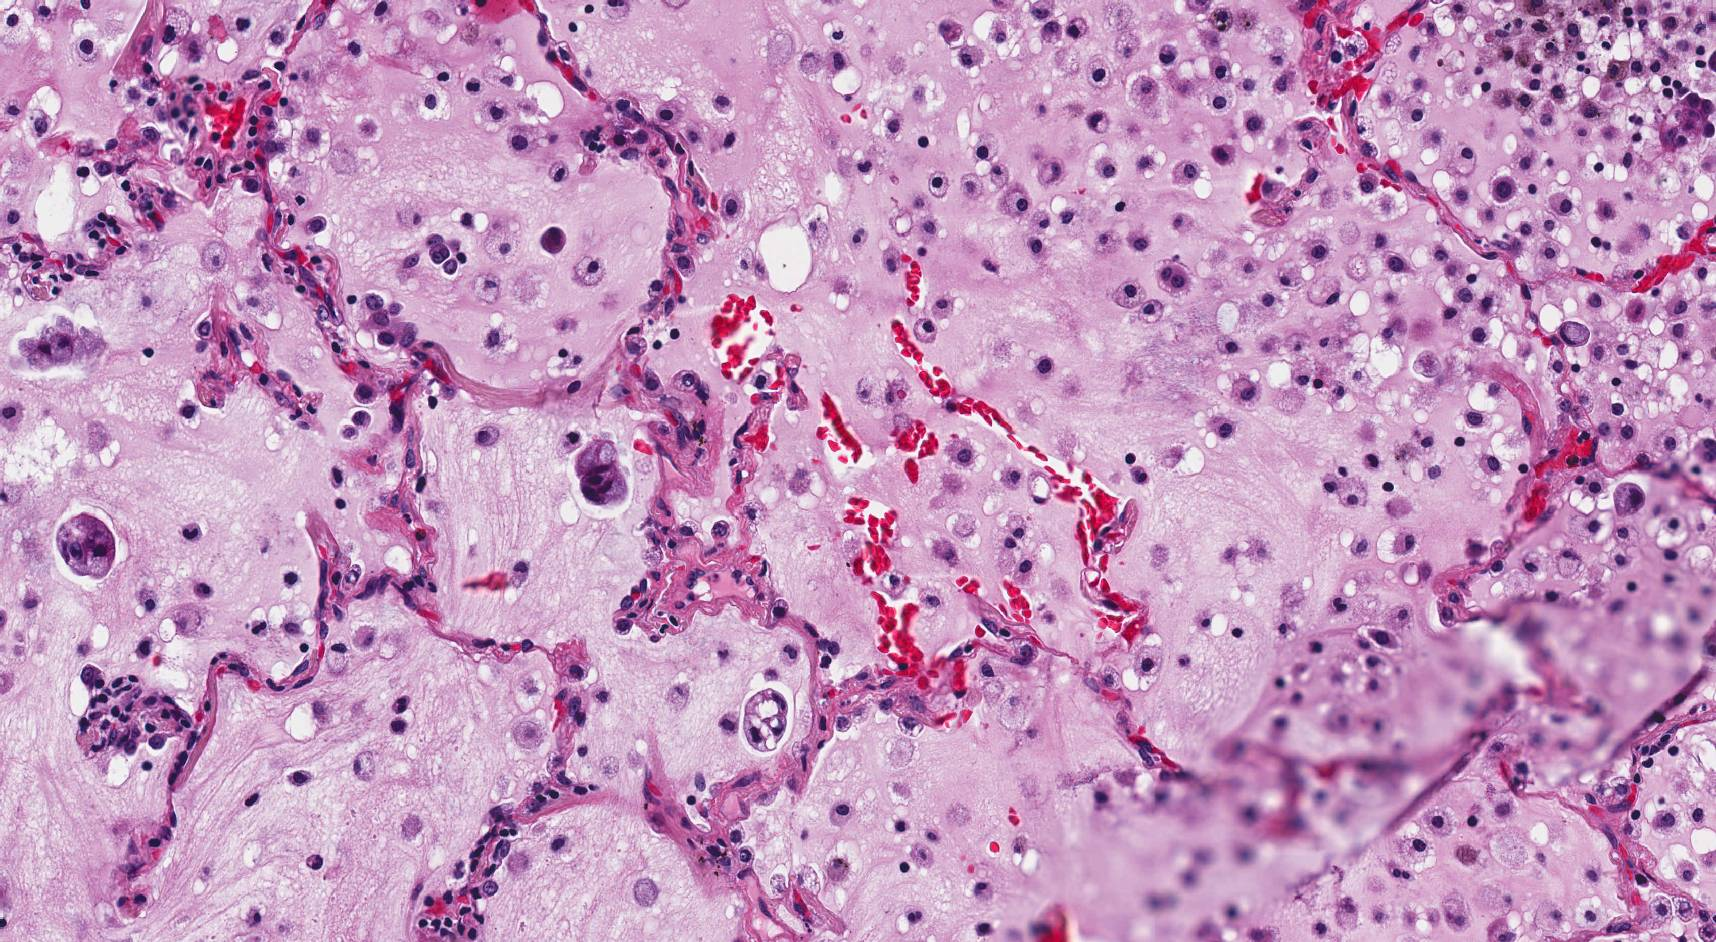stas: (575, 436, 632, 506), (54, 514, 114, 578), (739, 687, 787, 752)
